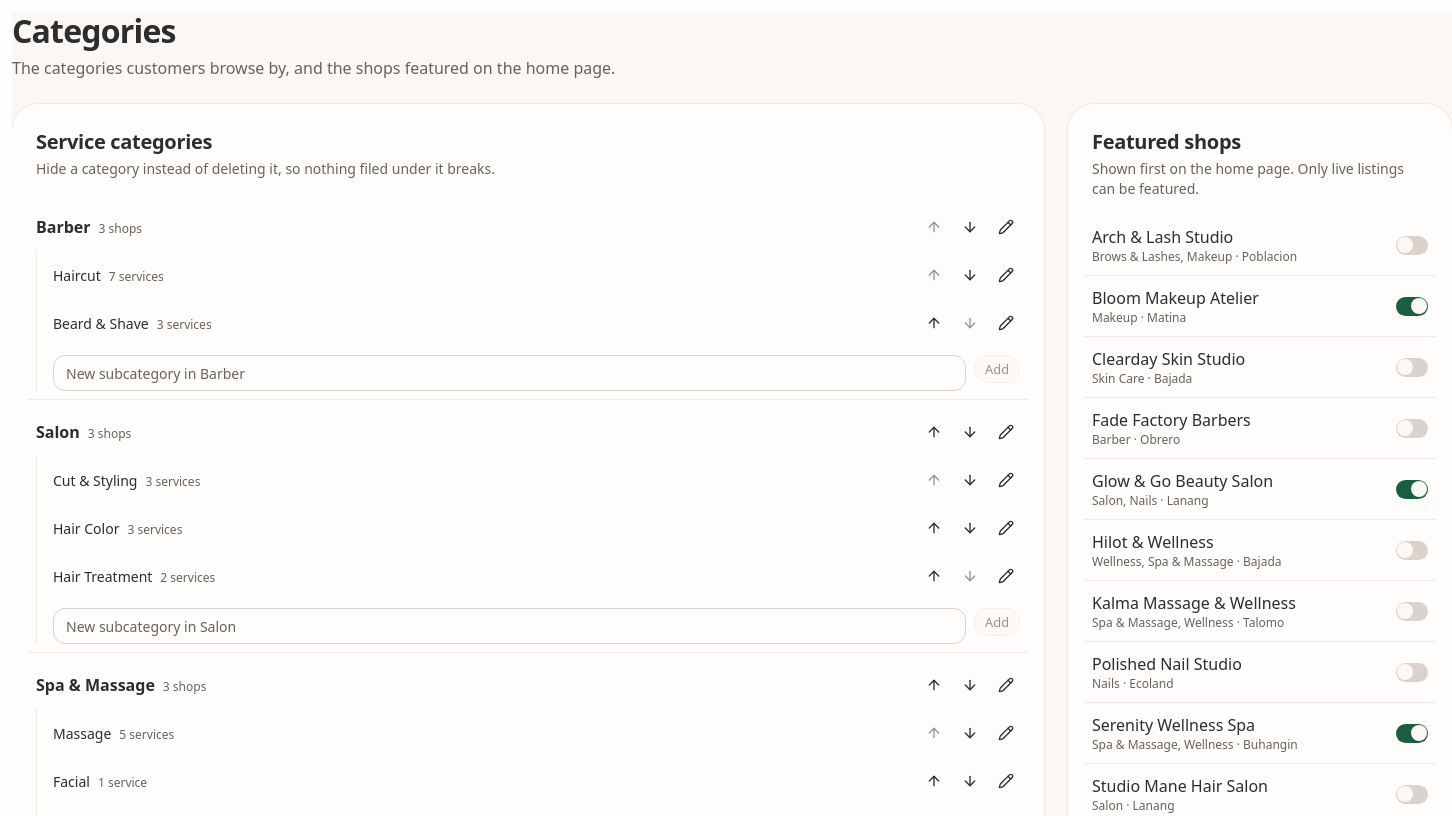
it: AdminCategoriesPage › adds a subcategory
In the field labelled "New subcategory in Barber": (510,373) [53, 355, 966, 391], type "Kids’ Cuts"
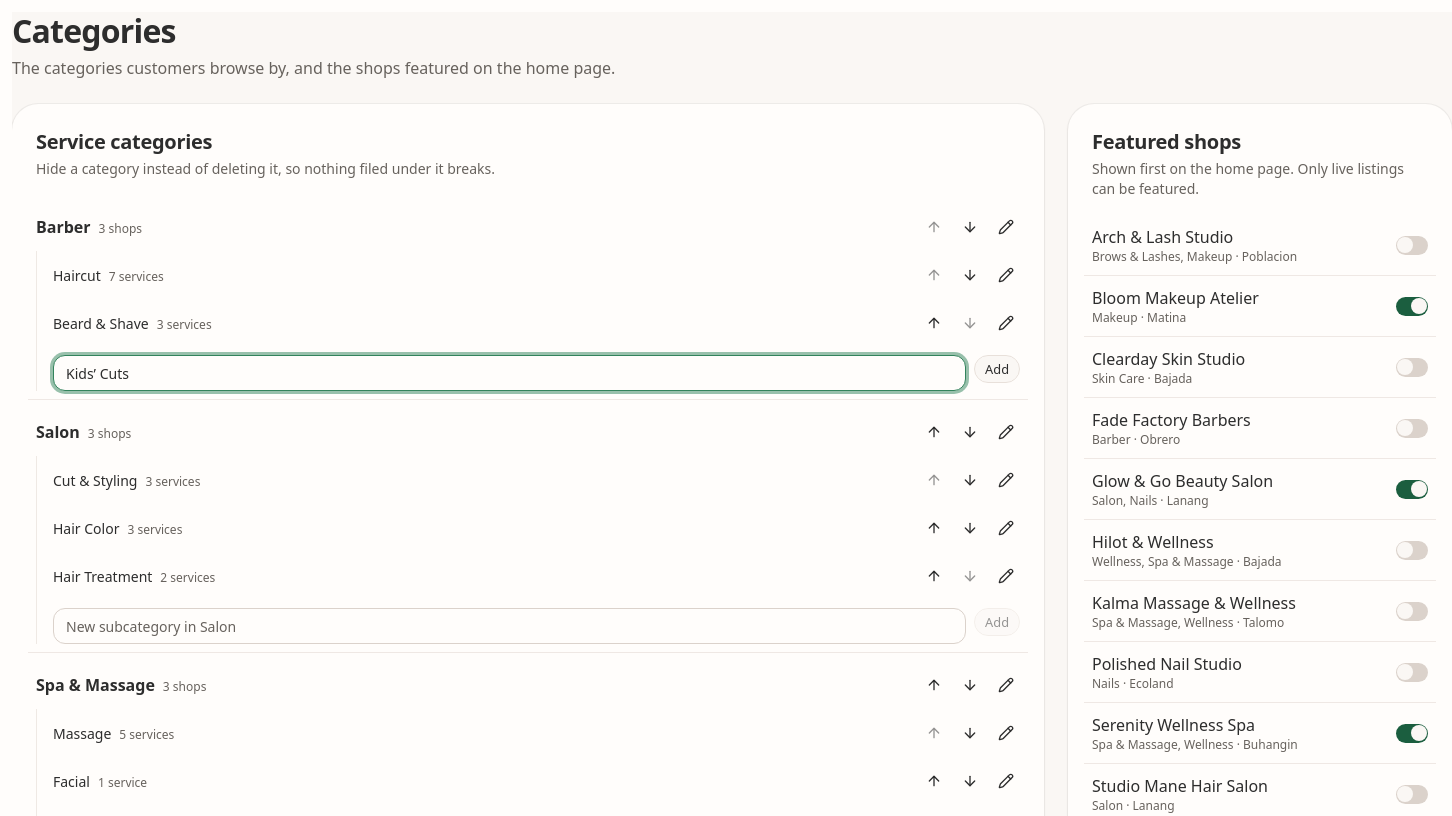
Click the 1st button "Add": (997,369) [974, 355, 1020, 383]
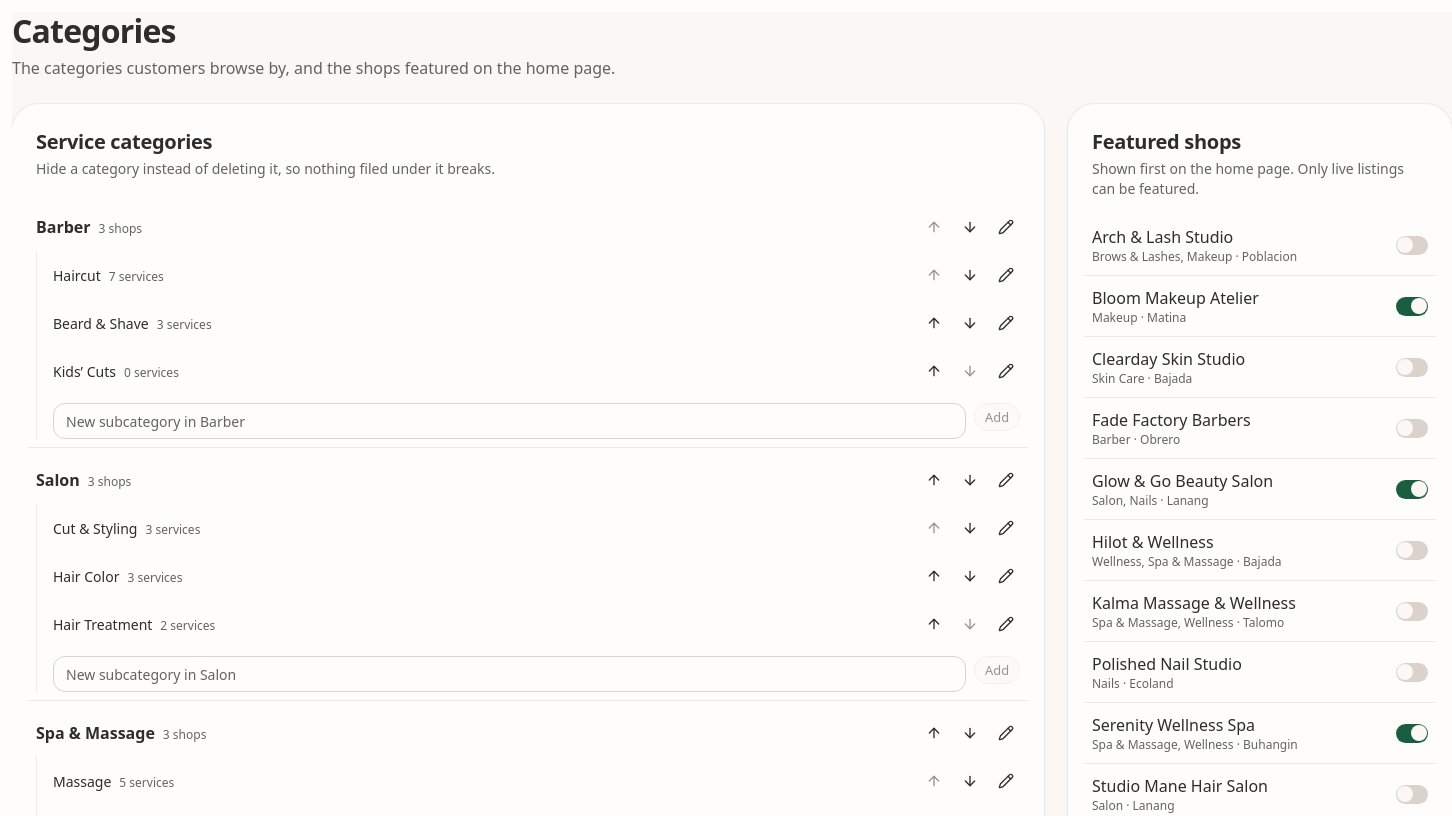
Now the text "Kids’ Cuts" is shown, box [53, 362, 116, 381]
